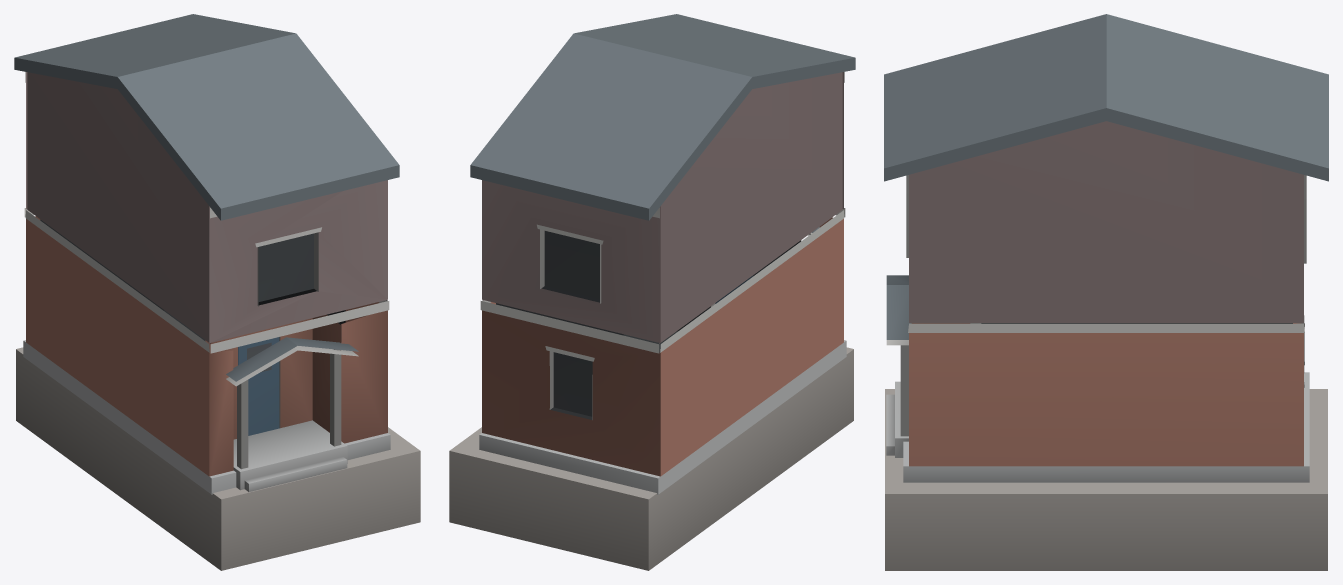
File: terrace_c.lod.glb
3 renders of one model, left to right at view 1: azimuth 30°, elevation 25°; view 2: azimuth 150°, elevation 25°; view 3: azimuth 270°, elevation 25°, orthographic. The views are drawn at different scales.
Parts seen in each view (by area): view 1: terrace_c; view 2: terrace_c; view 3: terrace_c.
Part boxes in pixels (<box>): terrace_c: <box>14,14,420,570</box>; terrace_c: <box>449,14,855,570</box>; terrace_c: <box>884,14,1328,570</box>.
Size of the model in its own units: 4.48 by 8.96 by 8.
